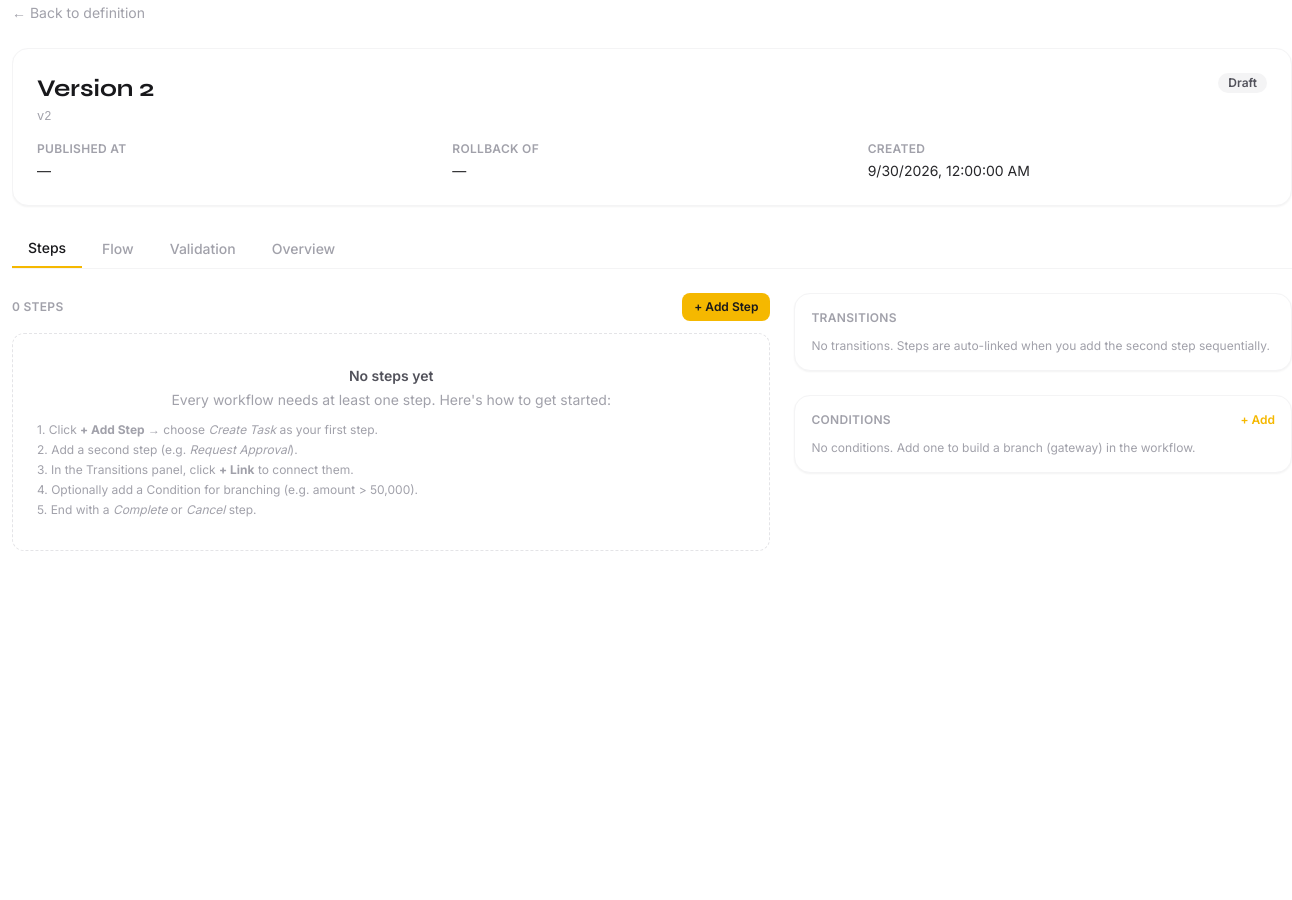
it: WorkflowVersionDetailPage › shows pass banner after successful validation
This screenshot has width=1292, height=900.
Expected: the heading "Version 2" is shown, [37, 73, 154, 105]
Click the button "validation". click: x=203, y=249
box: [154, 230, 252, 268]
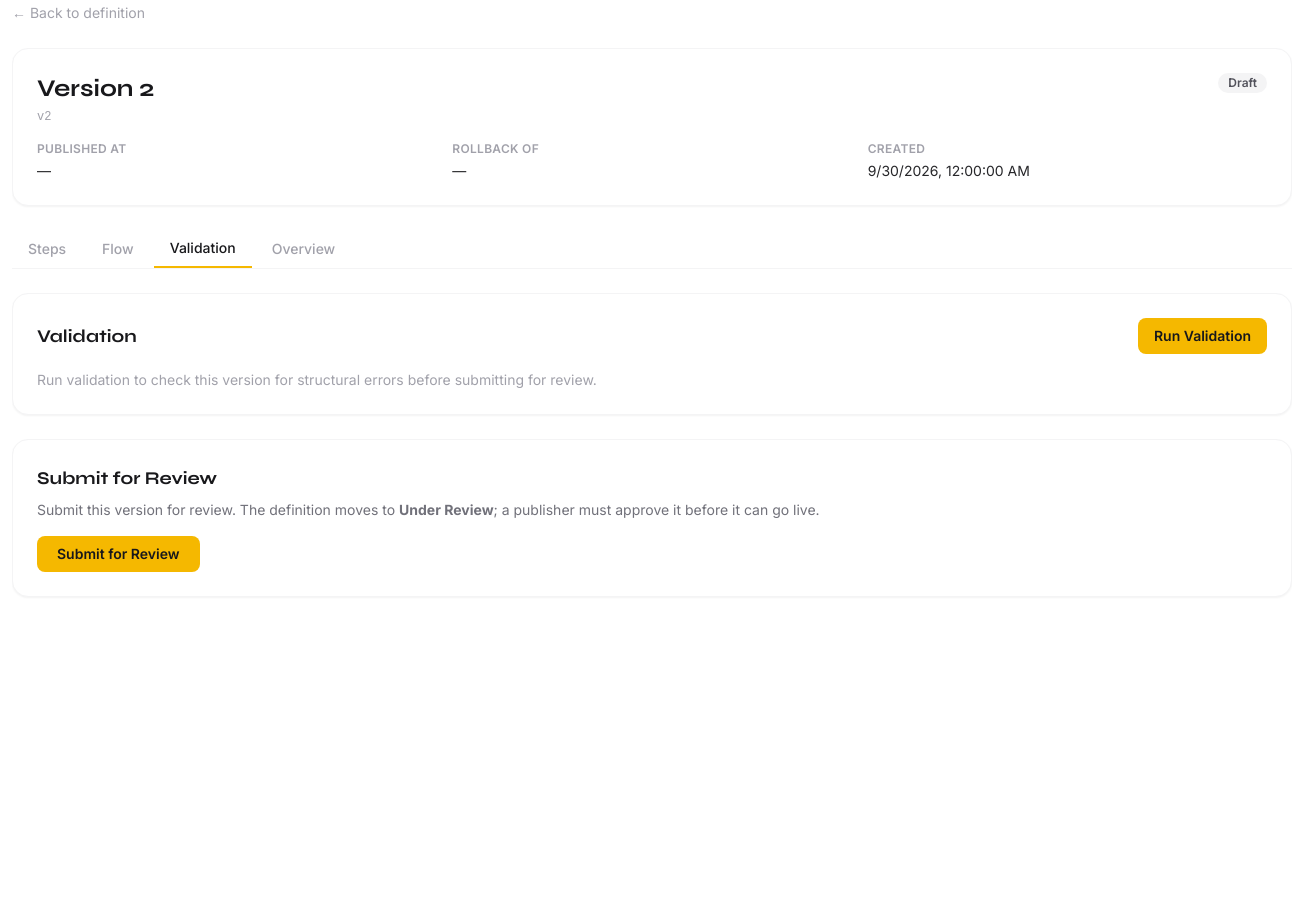
Now the button "Run Validation" is shown
Click the button "Run Validation". click: x=1202, y=336
box: [1138, 318, 1267, 354]
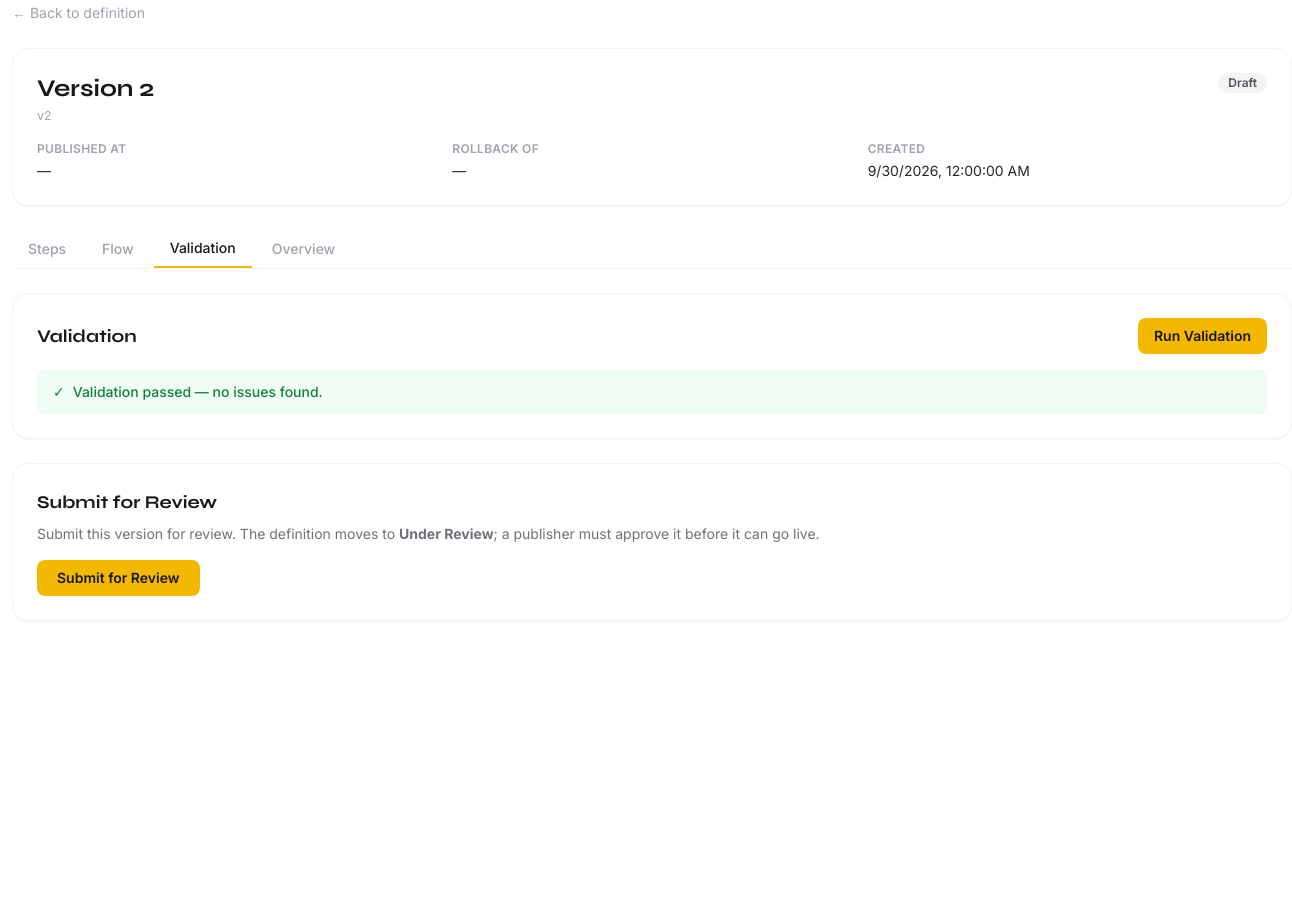
Now the text "Validation passed — no issues found." is shown, box [73, 382, 323, 402]
